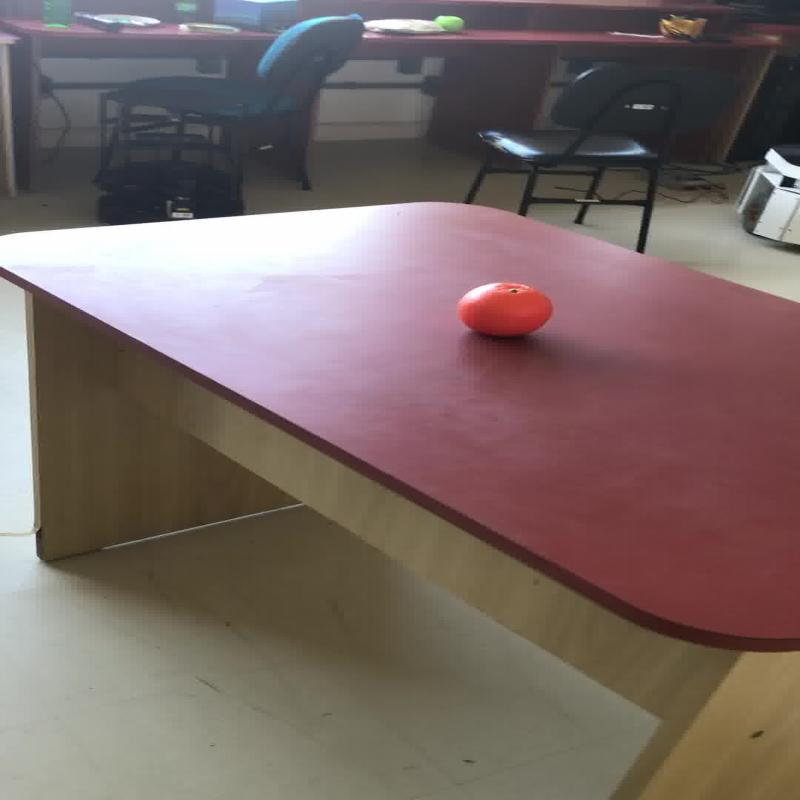orange: (455, 281, 552, 337), (432, 14, 463, 31)
